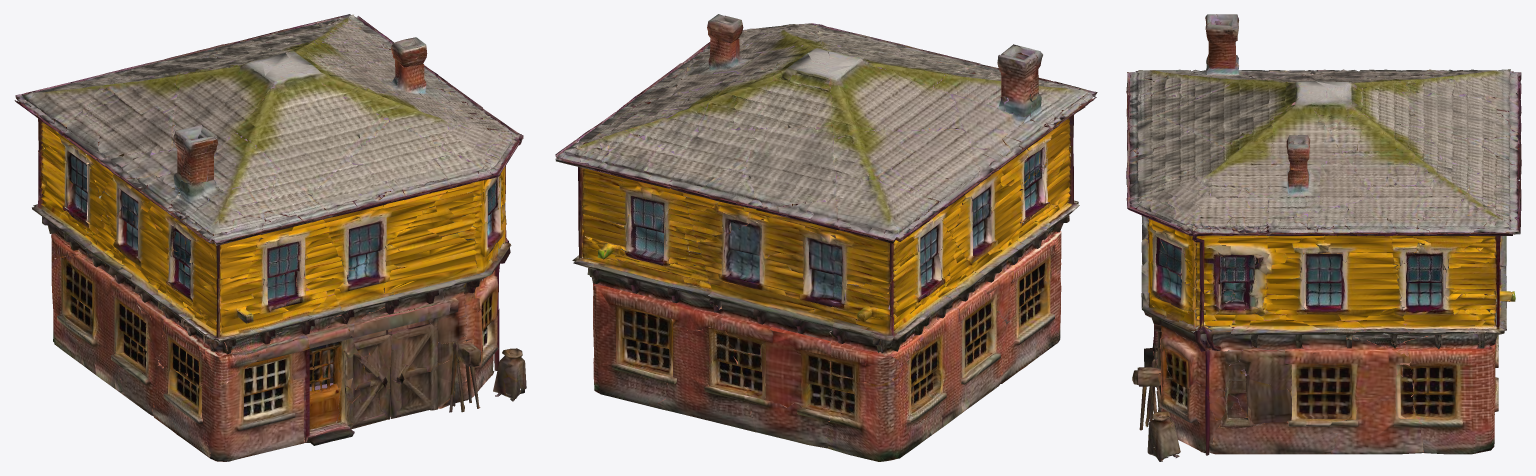
File: bldg-counting.glb
The picture shows the model from 3 angles, left to right: view 1: azimuth 30°, elevation 25°; view 2: azimuth 150°, elevation 25°; view 3: azimuth 270°, elevation 25°; orthographic projection. The views are drawn at different scales.
Parts seen in each view (by area): view 1: Mesh_0; view 2: Mesh_0; view 3: Mesh_0.
Boxes of the visible parts, x1,y1,x2,y2 form: Mesh_0: (14, 14, 526, 461); Mesh_0: (555, 14, 1097, 461); Mesh_0: (1126, 14, 1521, 461).
Size of the model in its own units: 1.88 by 1.6 by 1.9.
1 material, 1 textured.
